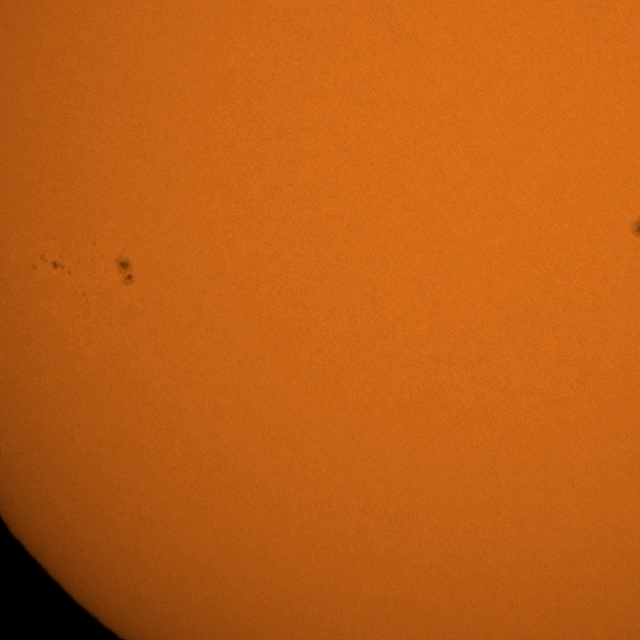sunspot: (32, 254, 72, 276), (116, 252, 134, 286), (50, 257, 70, 276)
